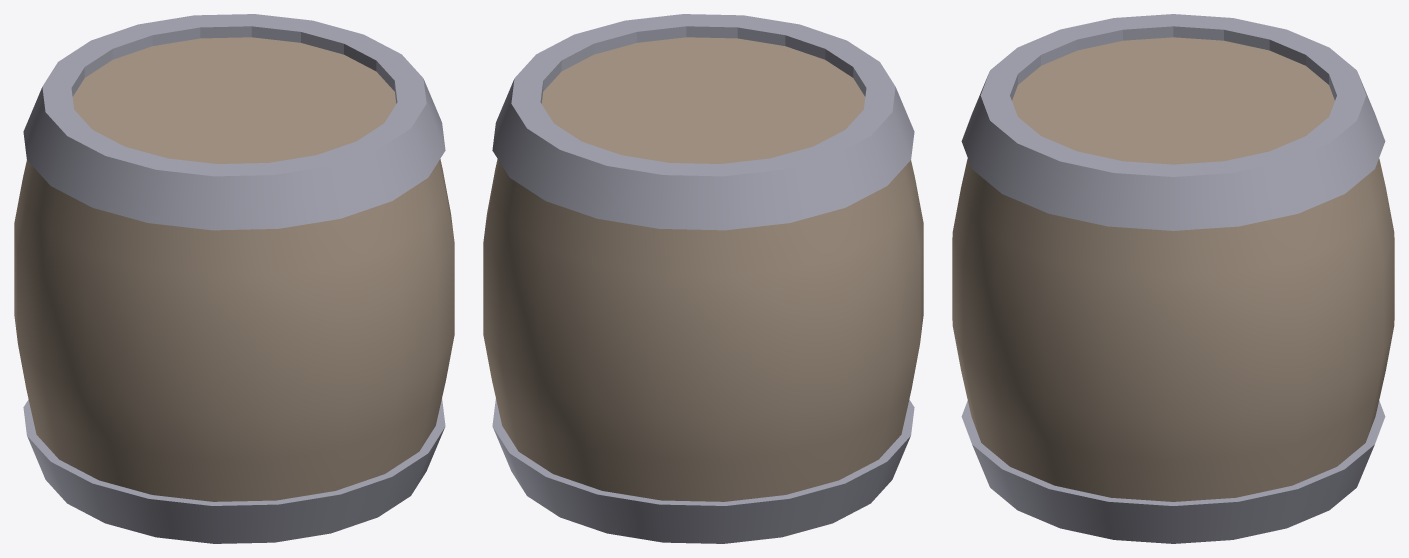
Rendered from Barrel.fbx.
3 views of the same model, side by side, from view 1: azimuth 30°, elevation 25°; view 2: azimuth 150°, elevation 25°; view 3: azimuth 270°, elevation 25° (orthographic).
Parts seen in each view (by area): view 1: Barrel; view 2: Barrel; view 3: Barrel.
Boxes of the visible parts, <box> form: Barrel: <box>14,14,454,543</box>; Barrel: <box>483,14,923,543</box>; Barrel: <box>952,14,1394,543</box>.
Size of the model in its own units: 178 by 163 by 178.
